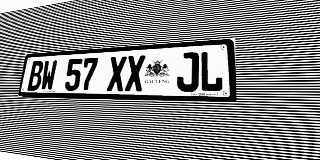5: (64, 58, 83, 91)
7: (79, 58, 98, 91)
B: (27, 61, 44, 91)
J: (176, 52, 199, 92)
L: (199, 50, 223, 92)
W: (40, 60, 58, 91)
X: (125, 55, 145, 91), (107, 56, 127, 91)
